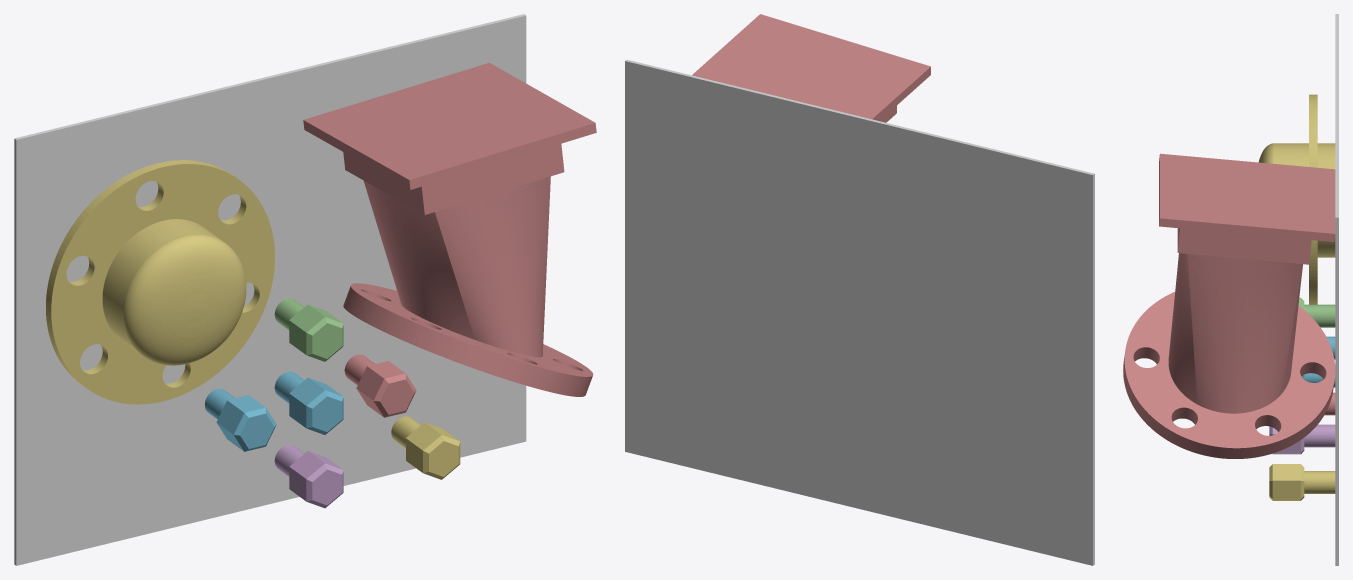
The model's file is pickup_layout.glb.
The picture shows the model from 3 angles, left to right: view 1: azimuth 30°, elevation 25°; view 2: azimuth 150°, elevation 25°; view 3: azimuth 270°, elevation 25°; orthographic projection. The views are drawn at different scales.
Visible parts, largest first — view 1: world, 0.obj, 1.obj, 5.obj, 2.obj, 6.obj, 4.obj, 3.obj, 7.obj; view 2: world, 0.obj; view 3: 0.obj, 1.obj, world, 6.obj, 3.obj, 4.obj.
Part boxes in pixels (<box>): world: <box>14,14,526,565</box>; 0.obj: <box>303,62,596,396</box>; 1.obj: <box>46,160,274,404</box>; 5.obj: <box>344,354,416,417</box>; 2.obj: <box>204,388,276,451</box>; 6.obj: <box>391,416,460,479</box>; 4.obj: <box>274,298,343,361</box>; 3.obj: <box>274,445,343,508</box>; 7.obj: <box>274,371,343,434</box>; world: <box>625,59,1094,565</box>; 0.obj: <box>692,14,930,122</box>; 0.obj: <box>1123,153,1335,458</box>; 1.obj: <box>1258,94,1335,304</box>; world: <box>1335,14,1338,565</box>; 6.obj: <box>1269,464,1335,500</box>; 3.obj: <box>1269,424,1335,454</box>; 4.obj: <box>1298,297,1335,327</box>.
Size of the model in its own units: 27.34 by 21.82 by 12.24.
